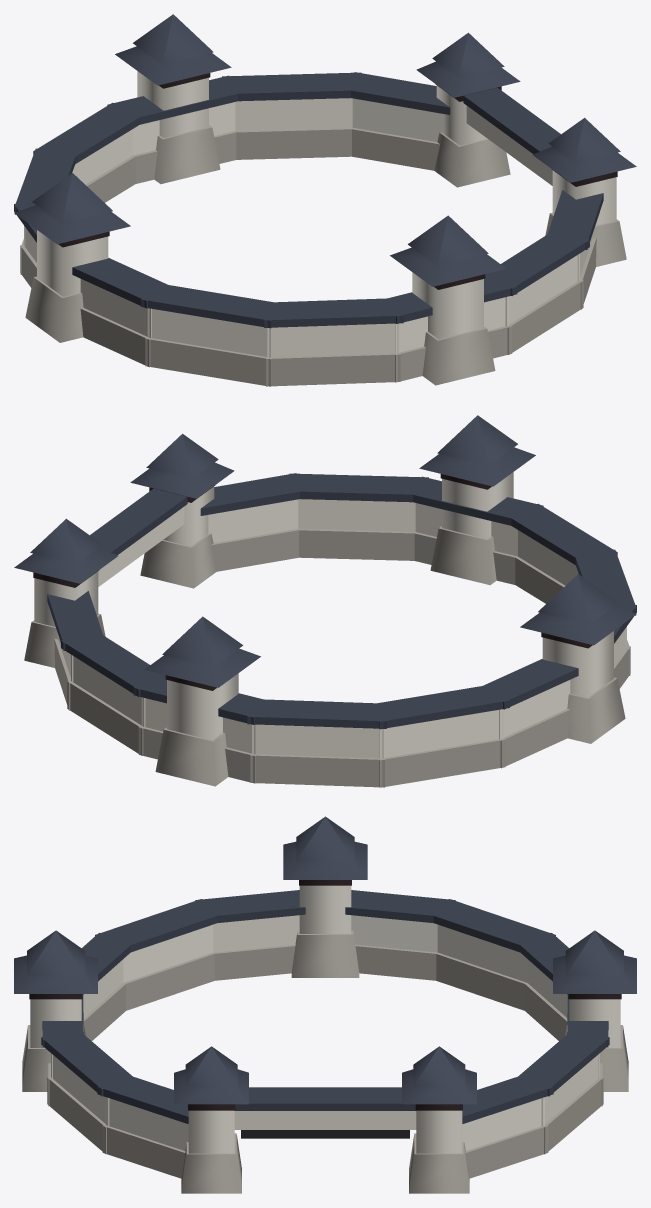
Rendered from base_standard_walls_2.glb.
The picture shows the model from 3 angles, top to bottom: view 1: azimuth 30°, elevation 25°; view 2: azimuth 150°, elevation 25°; view 3: azimuth 270°, elevation 25°; orthographic projection. The views are drawn at different scales.
Parts seen in each view (by area): view 1: wall_8_plaster, wall_8, wall_7_plaster, wall_7, wall_8_cap, wall_1_plaster, wall_1, wall_1_cap, wall_7_cap, tower_270_ishigaki, tower_270_body, wall_10_cap (+40 smaller); view 2: wall_3_plaster, wall_3, wall_4, wall_4_plaster, wall_3_cap, wall_10_plaster, wall_10, wall_10_cap, wall_4_cap, tower_90_ishigaki, tower_90_body, gate_arch_cap (+40 smaller); view 3: gate_arch_cap, gate_arch, wall_7_cap, wall_4_cap, tower_180_ishigaki, wall_10_cap, wall_1_cap, wall_4, wall_7, wall_4_plaster, wall_7_plaster, gate_tower_n_ishigaki (+43 smaller).
Part boxes in pixels (x1=…): wall_8_plaster: x1=267, y1=323, x2=398, y2=357; wall_8: x1=266, y1=352, x2=400, y2=386; wall_7_plaster: x1=147, y1=308, x2=271, y2=357; wall_7: x1=145, y1=338, x2=272, y2=386; wall_8_cap: x1=261, y1=298, x2=403, y2=327; wall_1_plaster: x1=235, y1=98, x2=352, y2=130; wall_1: x1=229, y1=128, x2=354, y2=159; wall_1_cap: x1=222, y1=72, x2=363, y2=101; wall_7_cap: x1=141, y1=283, x2=285, y2=328; tower_270_ishigaki: x1=422, y1=326, x2=495, y2=385; tower_270_body: x1=412, y1=272, x2=483, y2=339; wall_10_cap: x1=484, y1=231, x2=589, y2=295; wall_3_plaster: x1=252, y1=724, x2=383, y2=758; wall_3: x1=250, y1=753, x2=384, y2=787; wall_4: x1=378, y1=738, x2=505, y2=787; wall_4_plaster: x1=379, y1=709, x2=503, y2=758; wall_3_cap: x1=247, y1=699, x2=389, y2=728; wall_10_plaster: x1=298, y1=499, x2=415, y2=531; wall_10: x1=293, y1=528, x2=421, y2=560; wall_10_cap: x1=286, y1=473, x2=428, y2=502; wall_4_cap: x1=378, y1=684, x2=509, y2=729; tower_90_ishigaki: x1=155, y1=727, x2=228, y2=786; tower_90_body: x1=167, y1=673, x2=238, y2=740; gate_arch_cap: x1=90, y1=488, x2=187, y2=555; gate_arch_cap: x1=235, y1=1087, x2=415, y2=1110; gate_arch: x1=234, y1=1111, x2=416, y2=1129; wall_7_cap: x1=95, y1=899, x2=222, y2=952; wall_4_cap: x1=424, y1=899, x2=555, y2=952; tower_180_ishigaki: x1=291, y1=930, x2=359, y2=977; wall_10_cap: x1=41, y1=1029, x2=134, y2=1096; wall_1_cap: x1=518, y1=1029, x2=609, y2=1096; wall_4: x1=431, y1=952, x2=530, y2=1010; wall_7: x1=120, y1=952, x2=219, y2=1010; wall_4_plaster: x1=437, y1=924, x2=527, y2=982; wall_7_plaster: x1=123, y1=924, x2=213, y2=982; gate_tower_n_ishigaki: x1=409, y1=1133, x2=469, y2=1193.
Size of the model in its own units: 1.17 by 0.3195 by 1.23.
